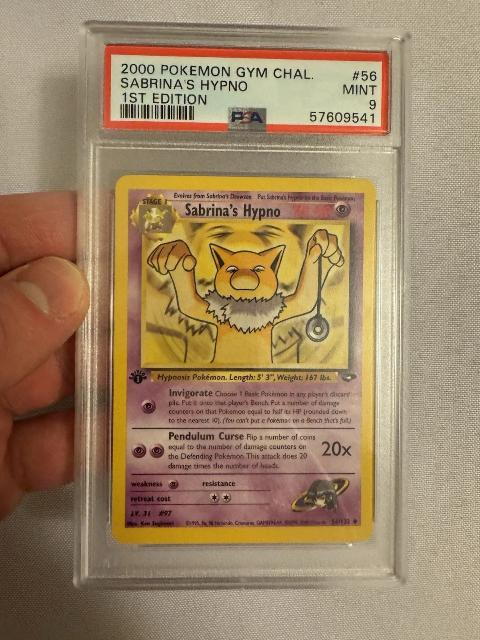Card: (108, 169, 380, 549)
Name: (181, 199, 286, 223)
